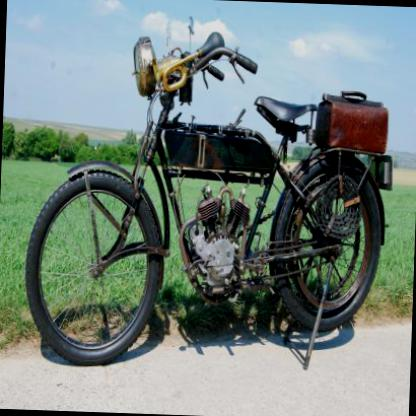motorcycle: (20, 9, 400, 378)
